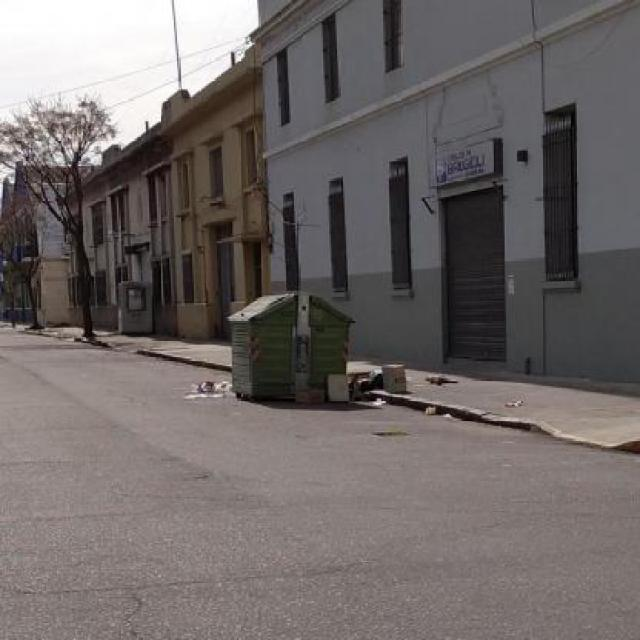garbage: (312, 357, 500, 420), (177, 374, 250, 408)
